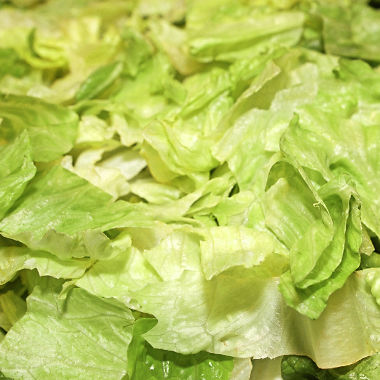chopped lettuce: (5, 15, 377, 371)
